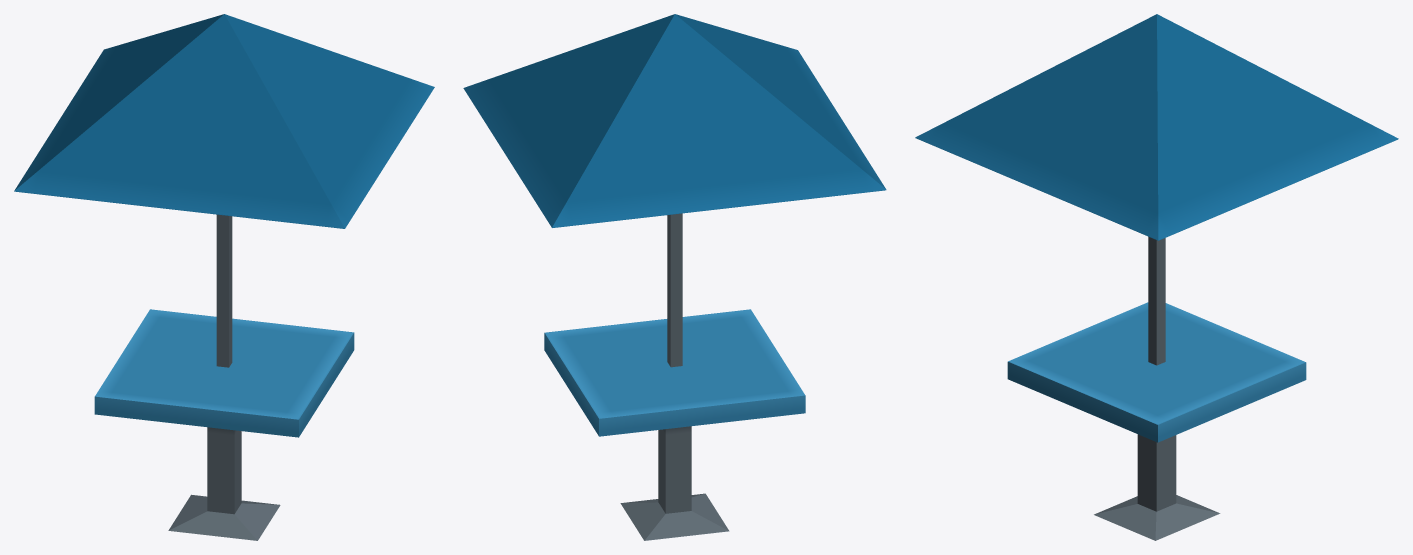
File: TableSmall_Umbrella.obj
3 views of the same model, side by side, from view 1: azimuth 30°, elevation 25°; view 2: azimuth 150°, elevation 25°; view 3: azimuth 270°, elevation 25° (orthographic).
Visible parts, largest first — view 1: TableSmall_Umbrella.001; view 2: TableSmall_Umbrella.001; view 3: TableSmall_Umbrella.001.
Boxes of the visible parts, x1,y1,x2,y2 form: TableSmall_Umbrella.001: [14, 14, 434, 540]; TableSmall_Umbrella.001: [463, 14, 886, 540]; TableSmall_Umbrella.001: [915, 14, 1398, 540].
Size of the model in its own units: 2.36 by 2.69 by 2.36.
